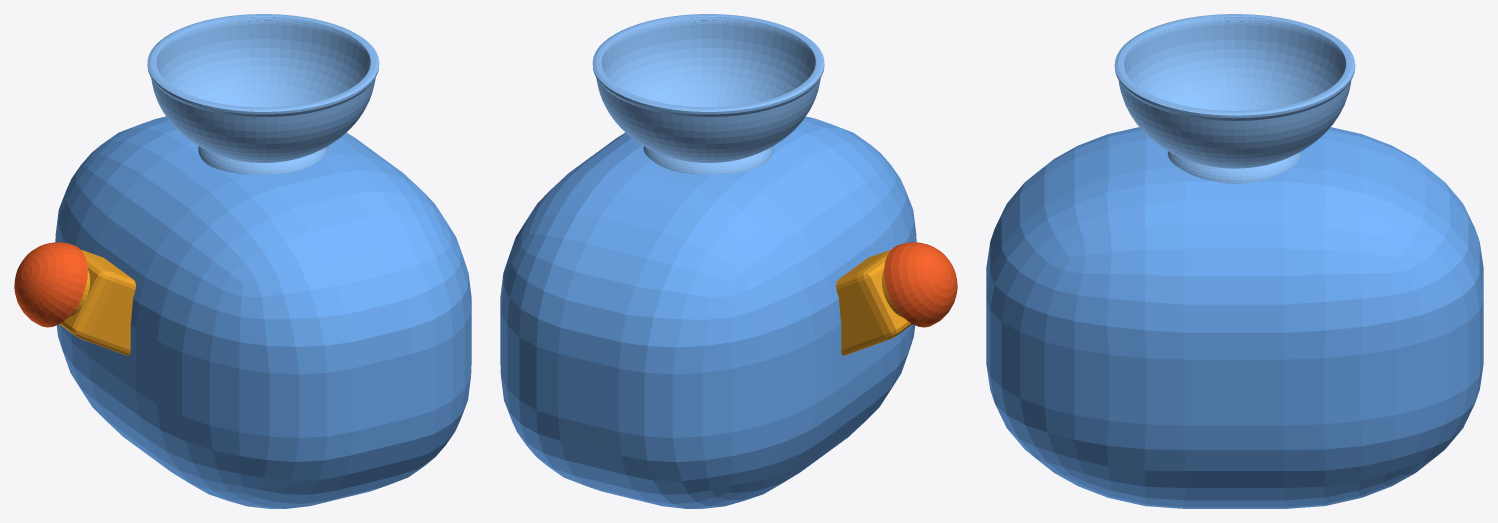
File: Mixing Machine.fbx
3 views of the same model, side by side, from view 1: azimuth 30°, elevation 25°; view 2: azimuth 150°, elevation 25°; view 3: azimuth 270°, elevation 25° (orthographic). The views are drawn at different scales.
Visible parts, largest first — view 1: Cube.044; view 2: Cube.044; view 3: Cube.044.
Boxes of the visible parts, x1,y1,x2,y2 form: Cube.044: (14, 14, 471, 508); Cube.044: (500, 14, 957, 508); Cube.044: (986, 14, 1483, 508).
Size of the model in its own units: 39.1 by 38.04 by 41.15.
